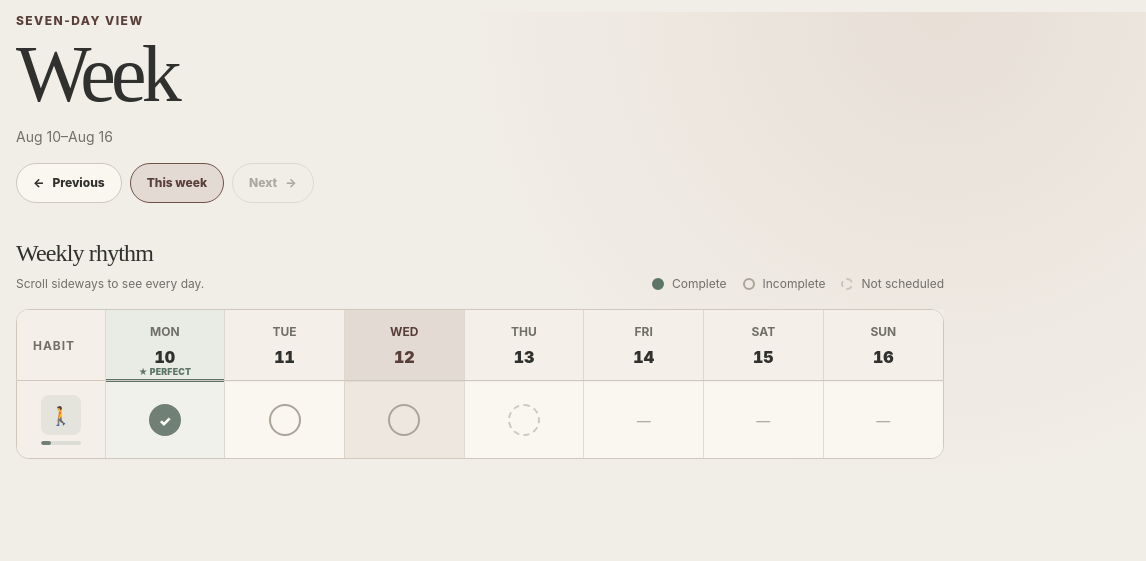
Test: Week view › restores the cell and row progress after a failed write
The image size is (1146, 561).
Click the button named "Tuesday, August 11, 2026, incomplete": (285, 420) [225,382,344,458]
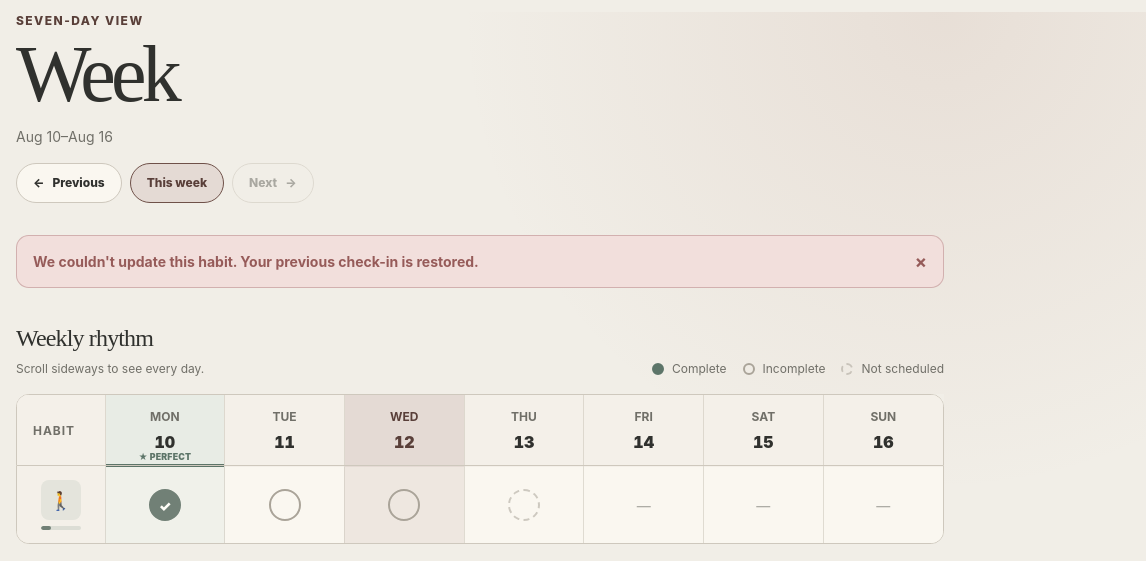
expect the message shows "previous check-in is restored": met, box [33,253,479,270]
